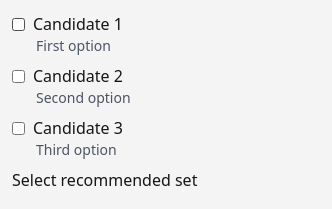
Test: click sets recommended items
Click the button "Select recommended set". click: x=105, y=180
box: [12,168,197,192]
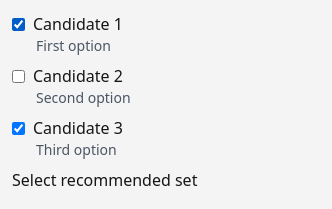
Result: the checkbox labelled "Candidate 1" is checked at [12,18,25,30]
Result: the checkbox labelled "Candidate 3" is checked at [12,122,25,134]
